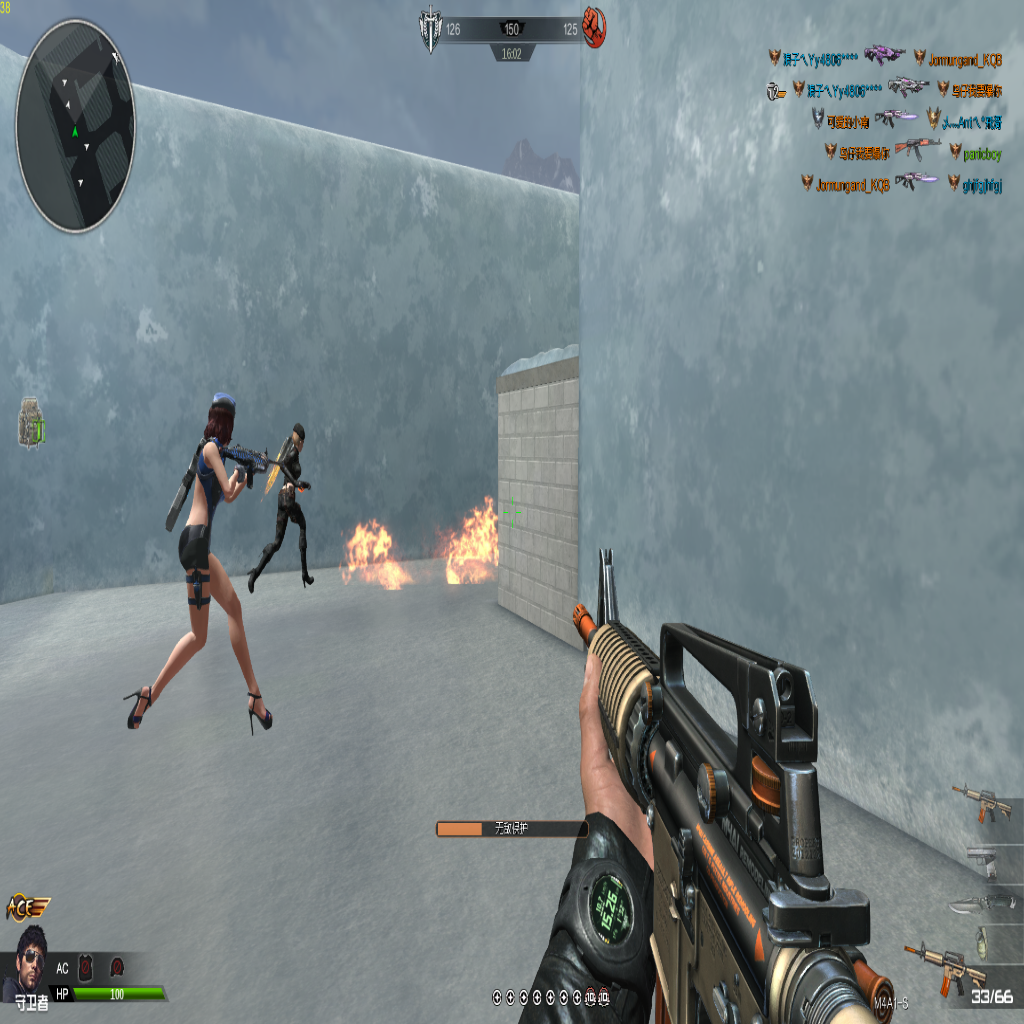ct: (247, 419, 313, 596)
